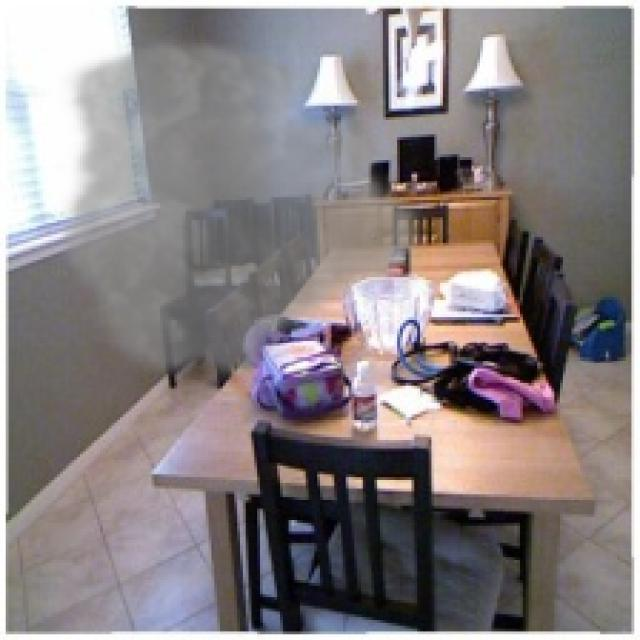smoke: (57, 31, 432, 388)
